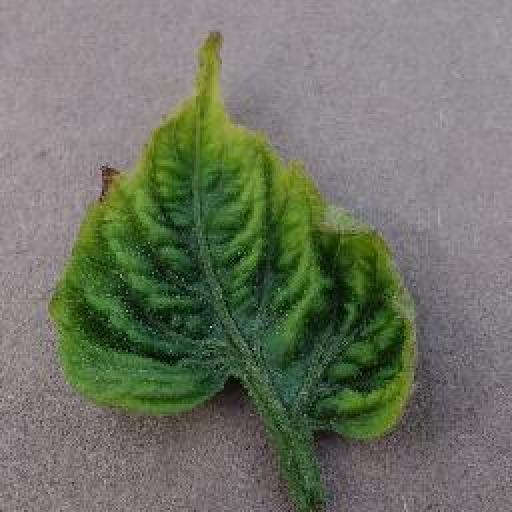Yellow Leaf Curl Virus: (57, 24, 420, 439)
